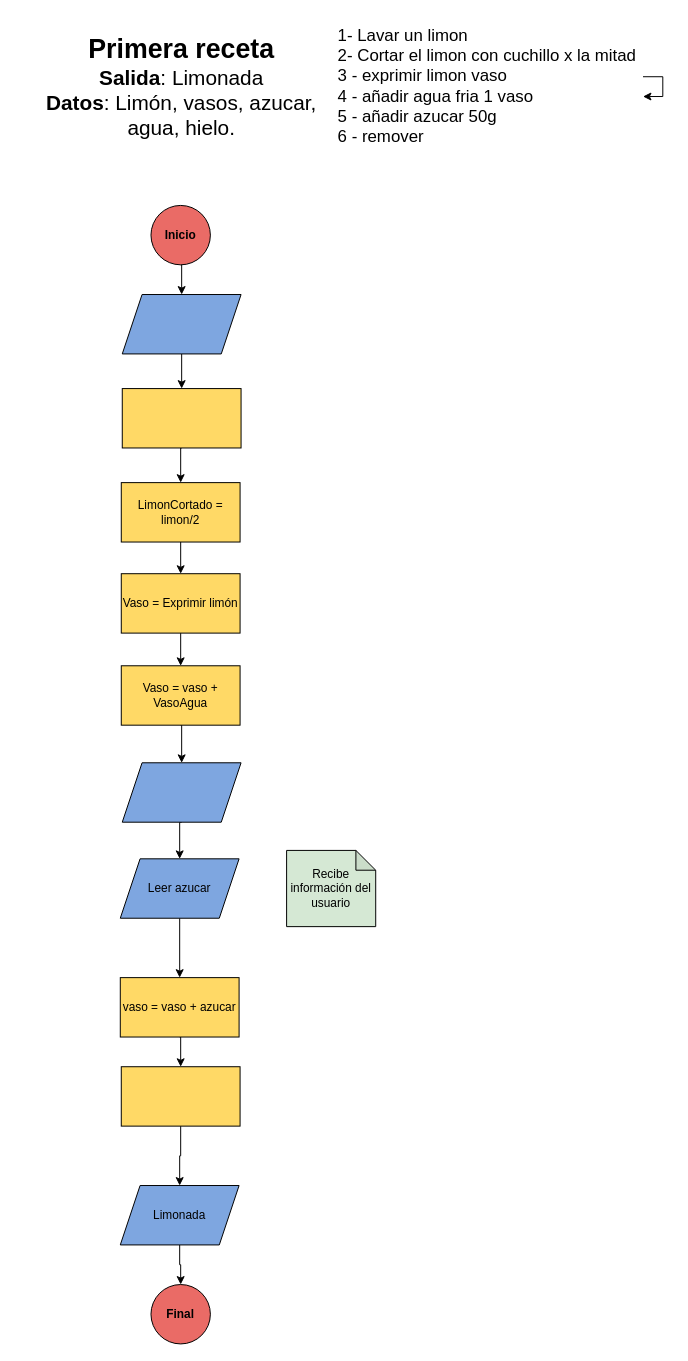
Image size: 688x1361. Some labels were removed from this diagram. The centre of each missing label's shape, as x and y in pixels:
"Datos : Limón, vasos, azucar, agua, hielo." goes at point (181, 324).
"Escribir ¿Cuánto azúcar?" goes at point (181, 792).
"Limonada = removerVaso" goes at point (180, 1096).
"LimonLimpio = Lavar limón" goes at point (181, 418).
